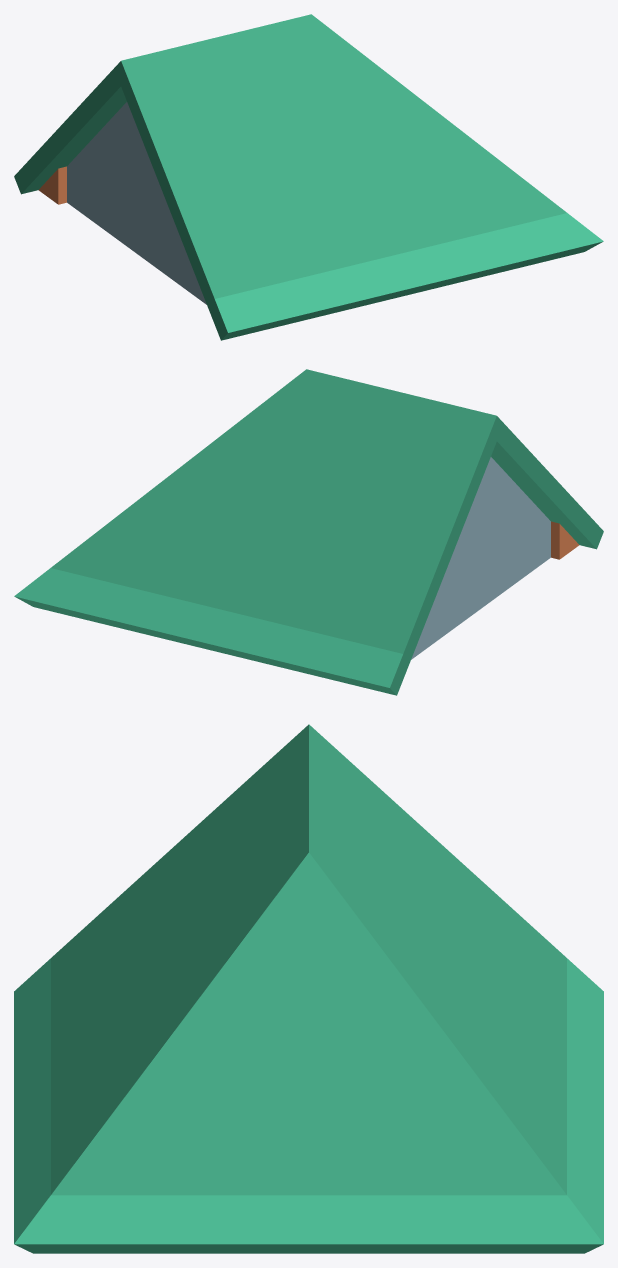
Rendered from roofGableEnd.dae.
The picture shows the model from 3 angles, top to bottom: view 1: azimuth 30°, elevation 25°; view 2: azimuth 150°, elevation 25°; view 3: azimuth 270°, elevation 25°; orthographic projection. The views are drawn at different scales.
Parts seen in each view (by area): view 1: roofGableEnd; view 2: roofGableEnd; view 3: roofGableEnd.
Boxes of the visible parts, <box> form: roofGableEnd: <box>14,14,603,340</box>; roofGableEnd: <box>14,369,603,695</box>; roofGableEnd: <box>14,724,603,1253</box>.
Bounding box in the file's own units: 1.09 × 0.5707 × 1.07.
